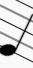note: (0, 0, 32, 61)
